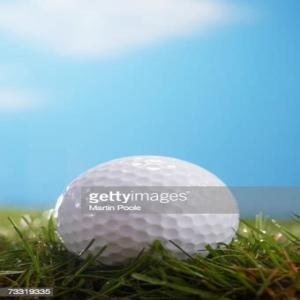Golf: (57, 155, 241, 257)
